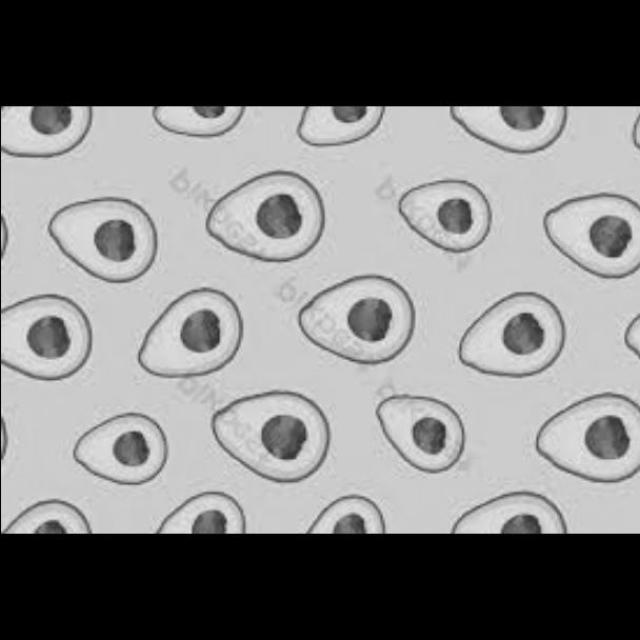bo: (189, 392, 339, 501), (515, 385, 639, 516), (180, 170, 334, 272), (32, 178, 166, 287), (435, 288, 565, 400), (277, 282, 432, 375), (363, 161, 498, 260), (119, 287, 247, 385), (363, 384, 473, 479), (413, 105, 572, 168), (529, 190, 637, 282), (63, 404, 173, 491), (0, 285, 88, 384), (424, 487, 564, 532), (128, 497, 278, 532), (0, 105, 107, 154), (268, 106, 391, 148), (292, 484, 391, 533), (102, 105, 240, 137), (0, 501, 88, 532)
